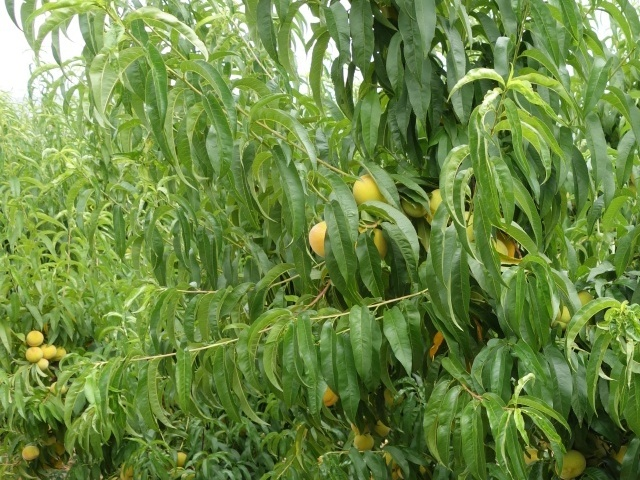peach: (346, 169, 391, 211), (299, 216, 335, 264), (396, 181, 435, 220), (424, 186, 452, 229), (554, 447, 589, 480), (348, 431, 380, 453)
